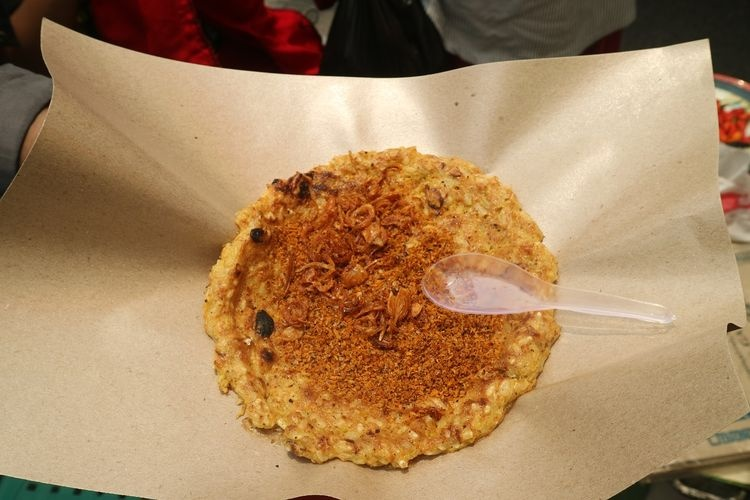kerak_telor: (209, 151, 563, 453)
